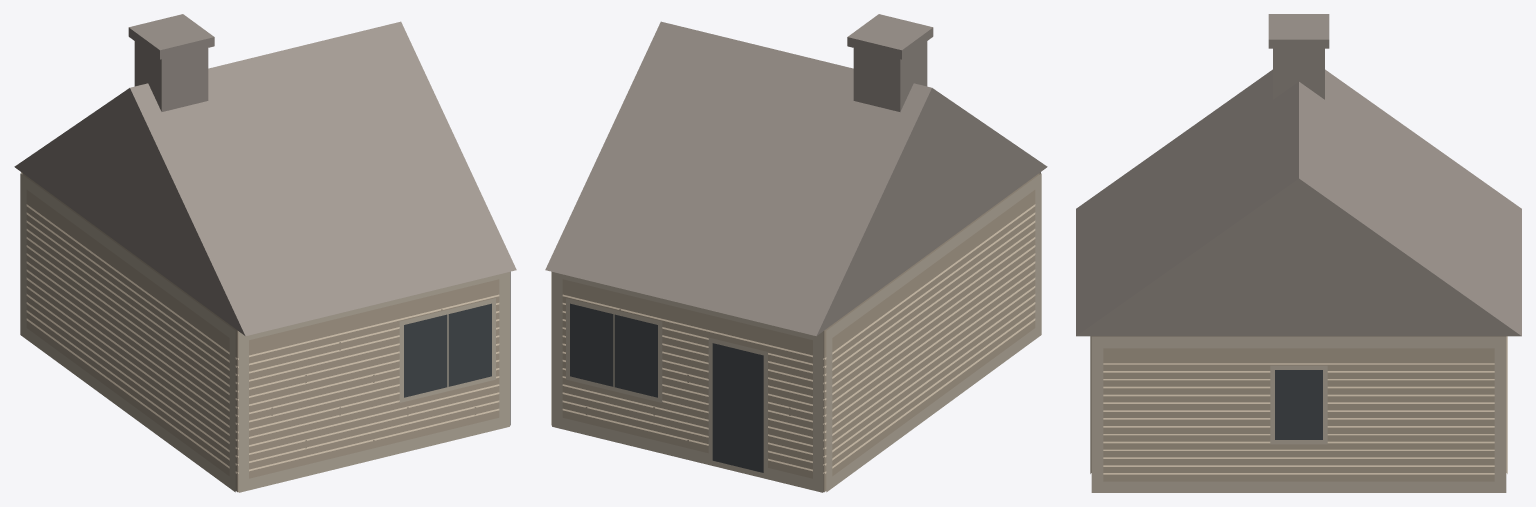
Rendered from inf_sawyer_dwelling_a__inferred_1835.glb.
3 renders of one model, left to right at view 1: azimuth 30°, elevation 25°; view 2: azimuth 150°, elevation 25°; view 3: azimuth 270°, elevation 25°, orthographic. The views are drawn at different scales.
Parts seen in each view (by area): view 1: inf_sawyer_dwelling_a__inferred_1835; view 2: inf_sawyer_dwelling_a__inferred_1835; view 3: inf_sawyer_dwelling_a__inferred_1835.
Part boxes in pixels (x1,y1,x2,y2): inf_sawyer_dwelling_a__inferred_1835: (14,14,516,492); inf_sawyer_dwelling_a__inferred_1835: (545,14,1047,492); inf_sawyer_dwelling_a__inferred_1835: (1076,14,1521,492).
Bounding box in the file's own units: 4.96 × 6.37 × 7.21.
